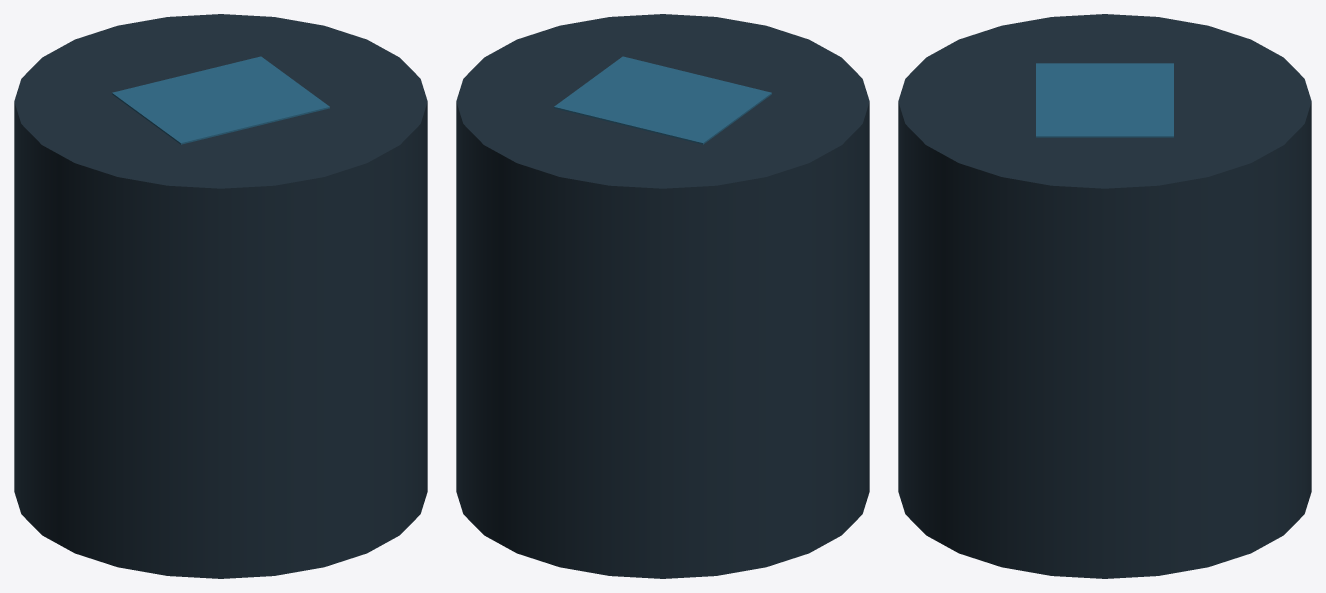
The model's file is paper.glb.
The picture shows the model from 3 angles, left to right: view 1: azimuth 30°, elevation 25°; view 2: azimuth 150°, elevation 25°; view 3: azimuth 270°, elevation 25°; orthographic projection.
Visible parts, largest first — view 1: InkDoseCapsule, InkDoseMark; view 2: InkDoseCapsule, InkDoseMark; view 3: InkDoseCapsule, InkDoseMark.
Part boxes in pixels (bbox=[...]): InkDoseCapsule: bbox=[14, 14, 427, 578]; InkDoseMark: bbox=[112, 56, 329, 144]; InkDoseCapsule: bbox=[456, 14, 869, 578]; InkDoseMark: bbox=[554, 56, 771, 144]; InkDoseCapsule: bbox=[898, 14, 1311, 578]; InkDoseMark: bbox=[1036, 63, 1173, 137].
Bounding box in the file's own units: 0.024 × 0.0251 × 0.024.
